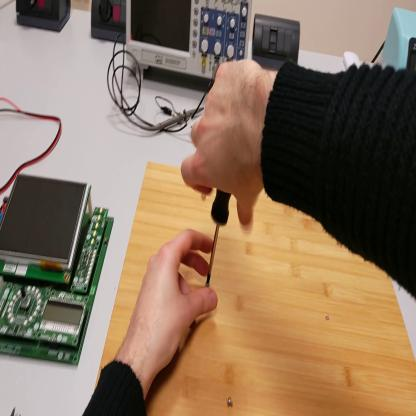hand: (181, 52, 275, 229), (126, 236, 219, 378)
low voltage board: (2, 175, 116, 367)
oscilloscope: (124, 3, 253, 87)
oscilloscope probe tip: (150, 109, 205, 131)
screwdriver-: (204, 187, 235, 286)
socket: (17, 1, 72, 35), (92, 2, 127, 45)
welder station: (382, 7, 416, 71)
working area: (96, 162, 416, 416)
